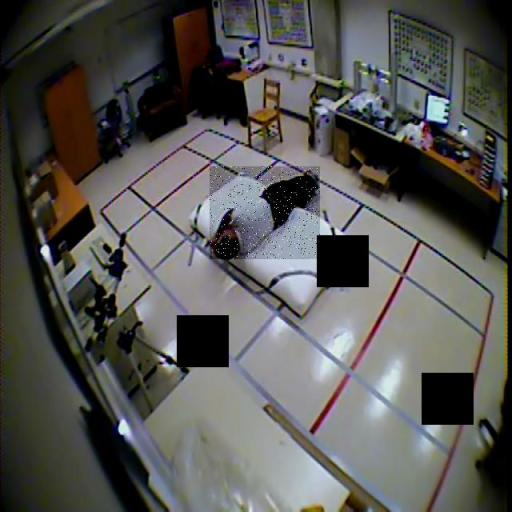Fall: (210, 167, 320, 260)
